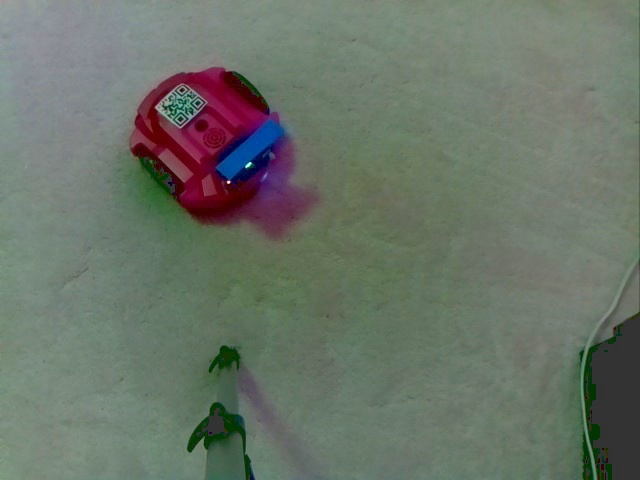board: (209, 109, 285, 186)
chassis: (127, 60, 286, 210)
